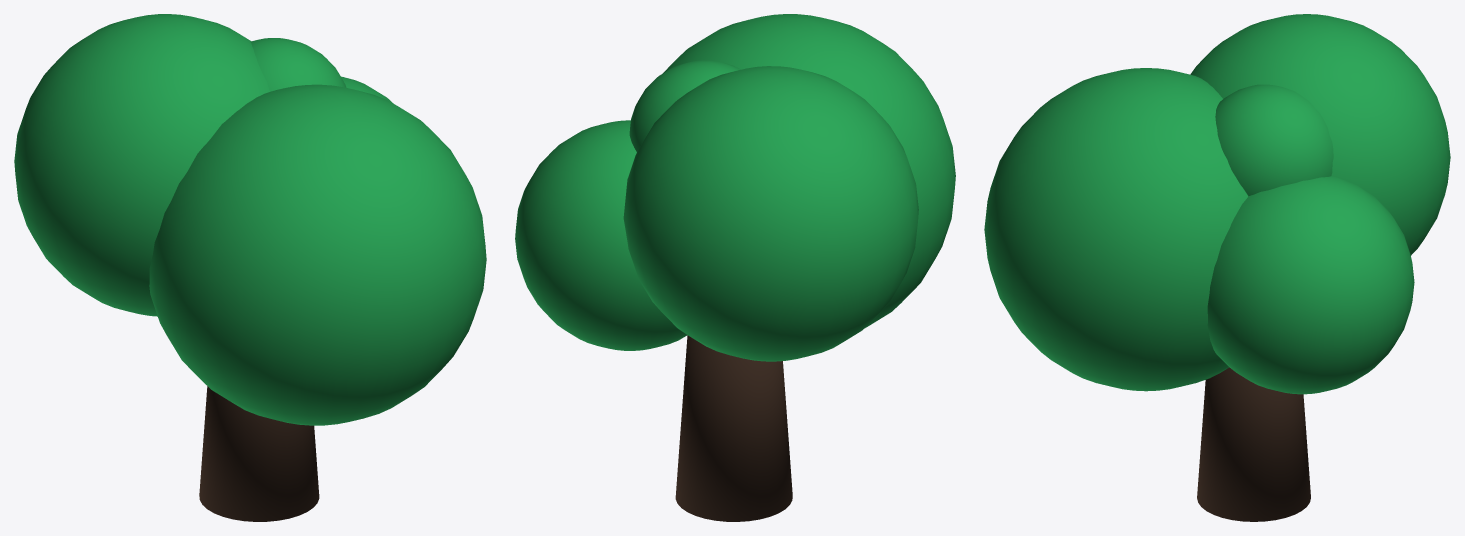
Rendered from BallTree.fbx.
3 views of the same model, side by side, from view 1: azimuth 30°, elevation 25°; view 2: azimuth 150°, elevation 25°; view 3: azimuth 270°, elevation 25° (orthographic). The views are drawn at different scales.
Visible parts, largest first — view 1: BallTree; view 2: BallTree; view 3: BallTree.
Part boxes in pixels (box(x1,y1,x2,y2)): BallTree: box(14, 14, 486, 521); BallTree: box(515, 14, 955, 521); BallTree: box(984, 14, 1450, 521).
Size of the model in its own units: 563 by 656 by 630.
